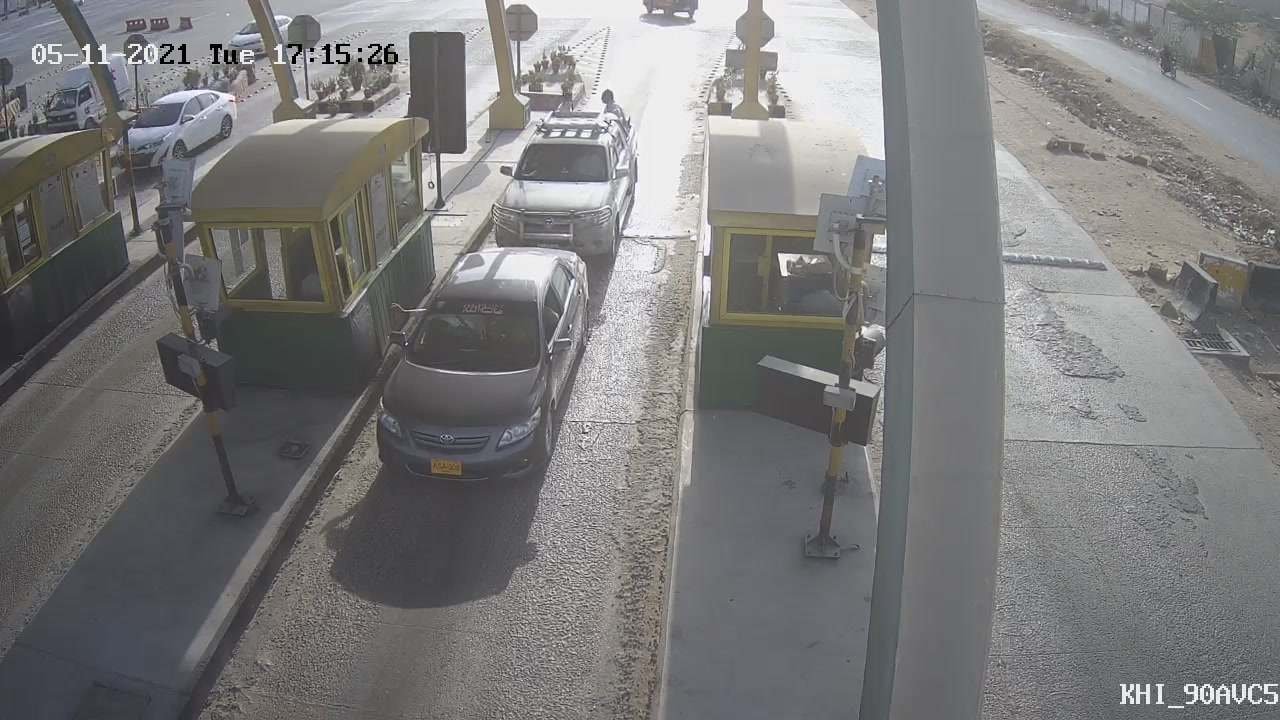F1: (351, 230, 611, 509), (476, 83, 653, 287)
